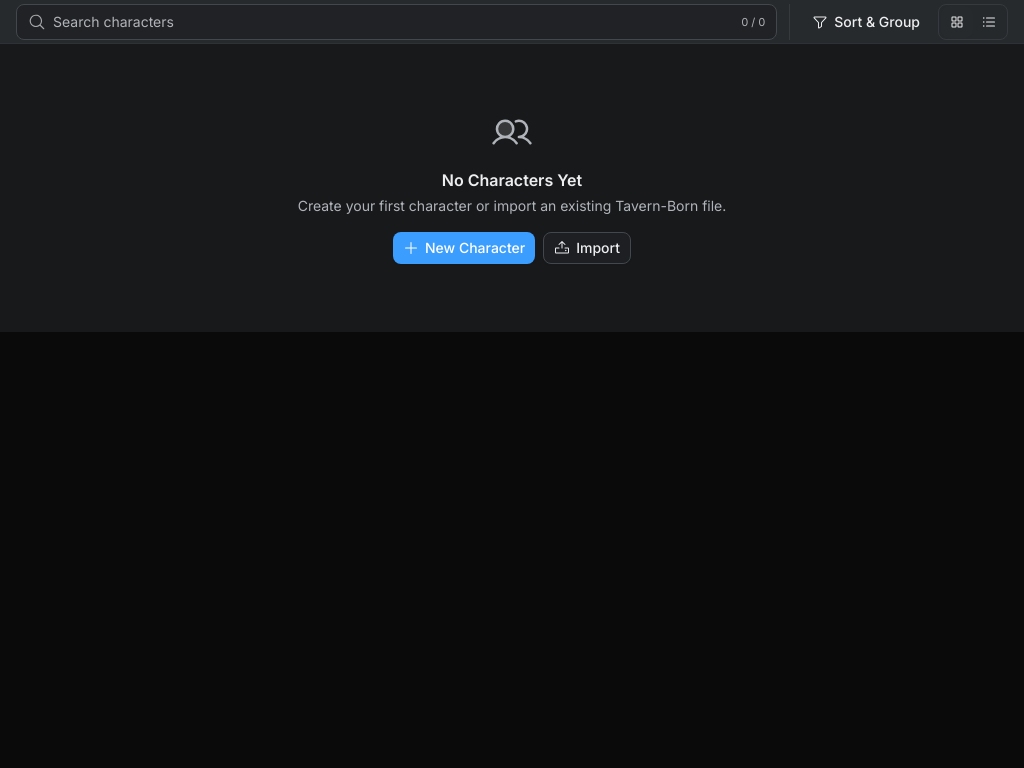
Test: home page integration workflows › shows import results for one character when game content cannot be checked
Step 1. Click the button "Import" → [587, 248], box [543,232,631,264]
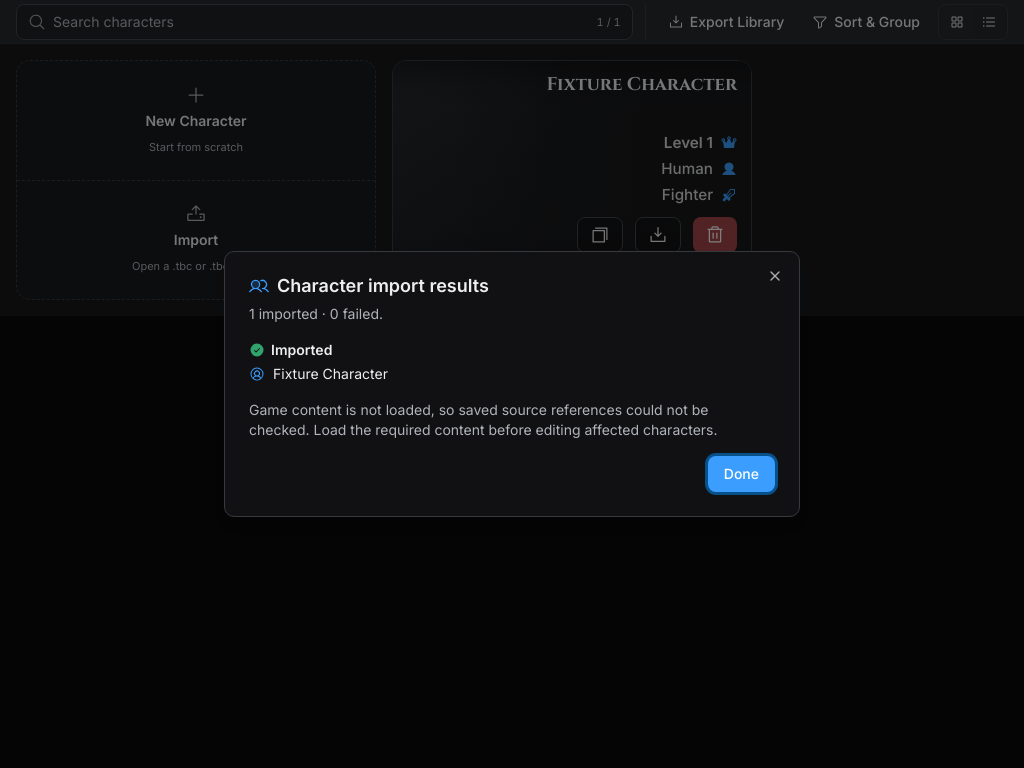
Now the text "1 imported · 0 failed." is shown, box [249,305,383,322]
Now the text "Game content is not loaded" is shown, box [249,401,718,438]
